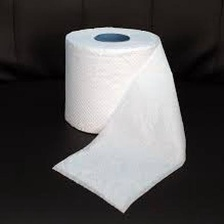tissue: (46, 22, 191, 216)
